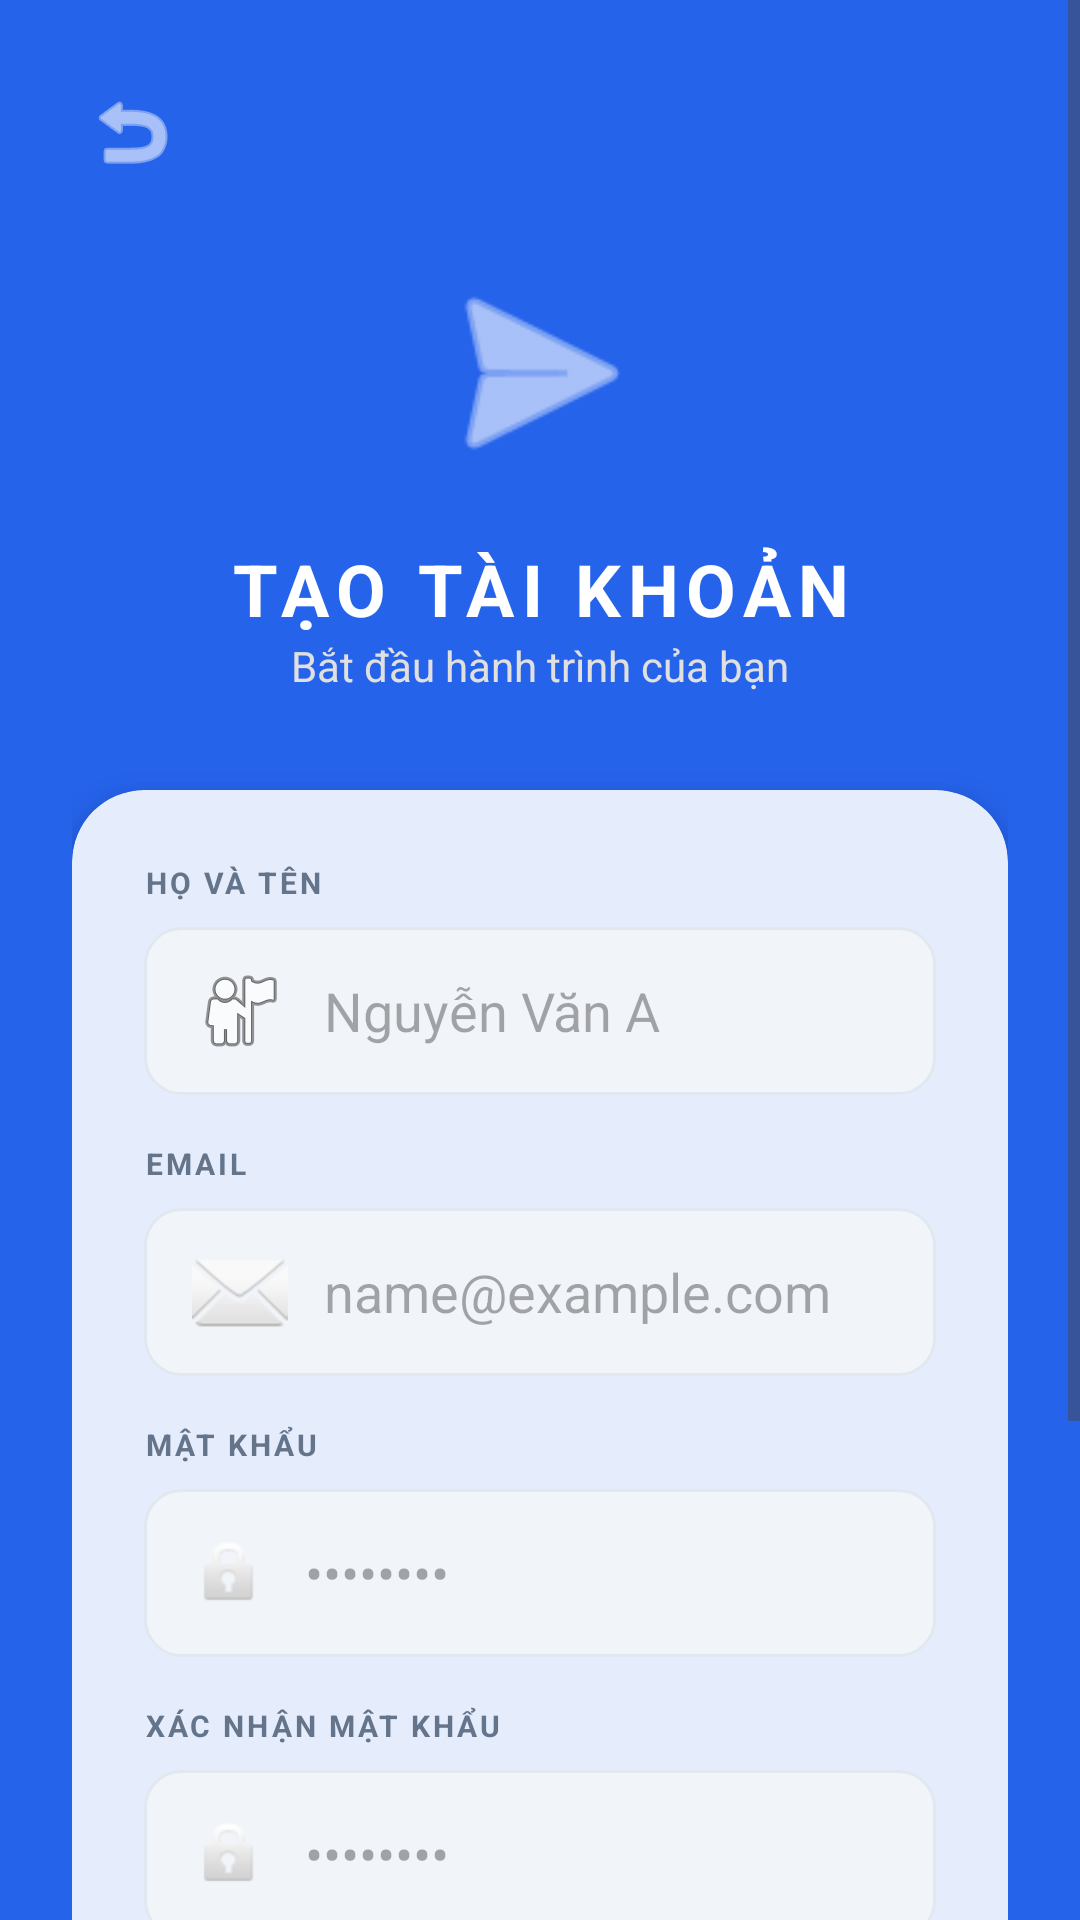

Screen size 1080w x 1920h. Icon name, then its center in pixels as (x=x, y=y):
Quay lại: (x=133, y=132)
send: (x=542, y=373)
